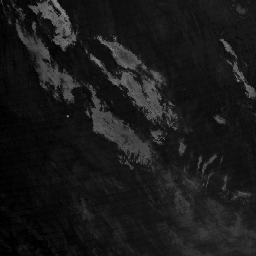Target: (65, 114, 71, 119)
